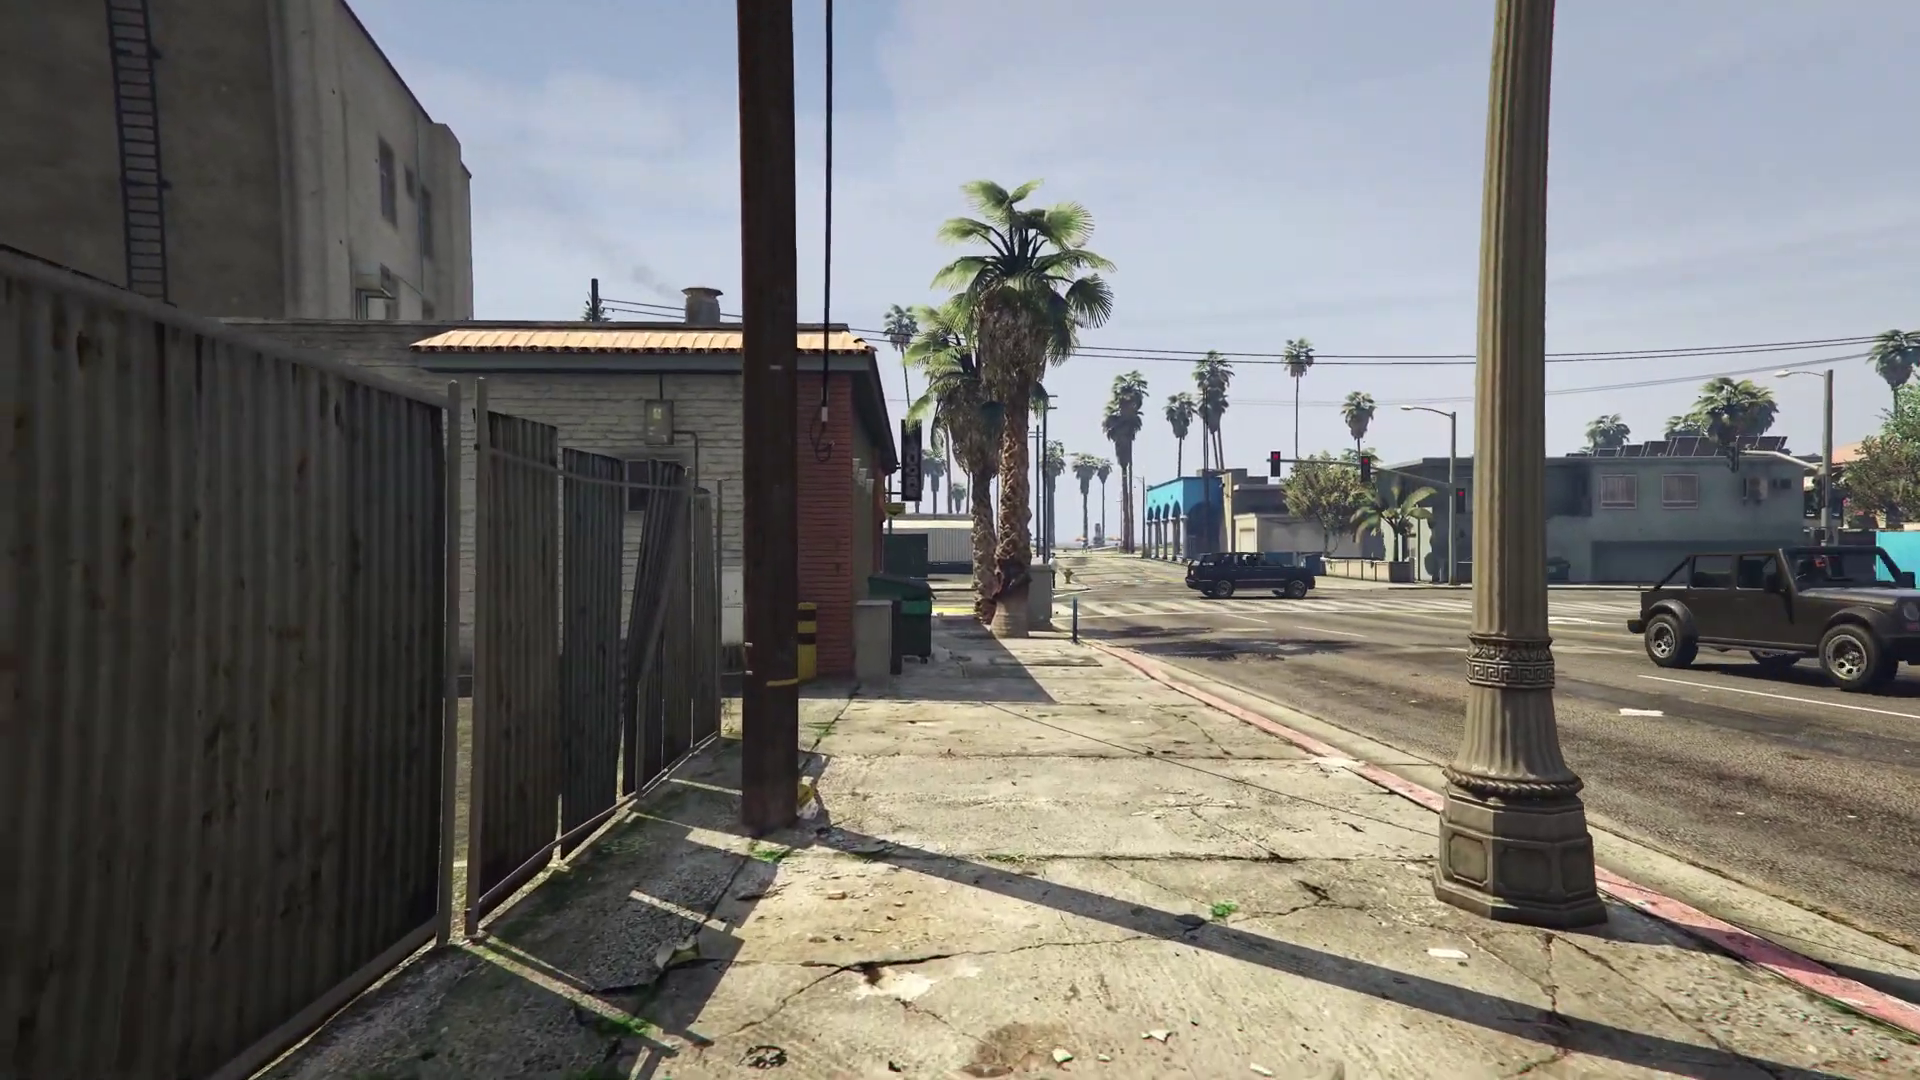car: (1625, 547, 1920, 688), (1185, 551, 1315, 601)
traffic light: (1453, 489, 1465, 516), (1360, 455, 1370, 483), (1270, 451, 1279, 479)
